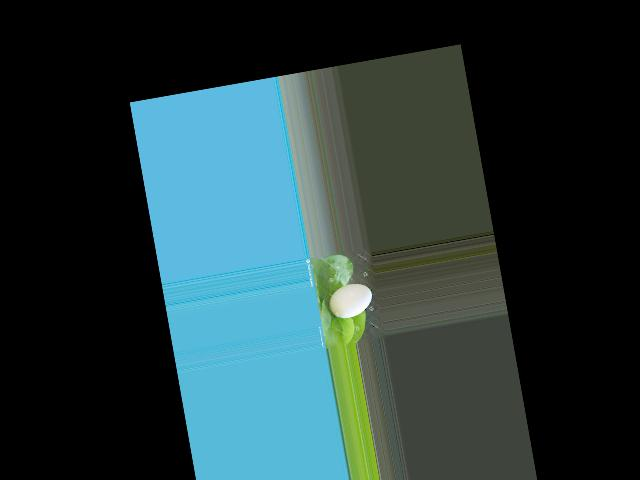egg: (326, 281, 374, 321)
